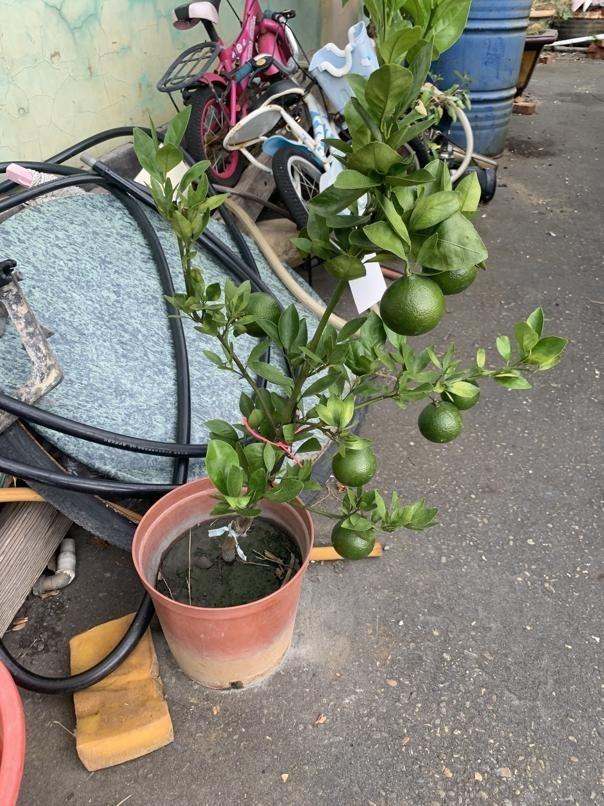Tangerine: (380, 271, 445, 337), (331, 518, 375, 562), (417, 401, 462, 444), (334, 446, 377, 488)
